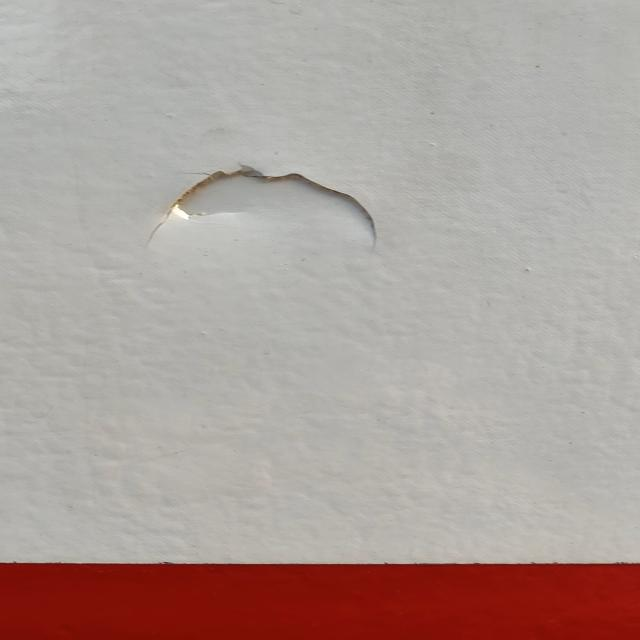Scratches: (141, 146, 386, 259)
